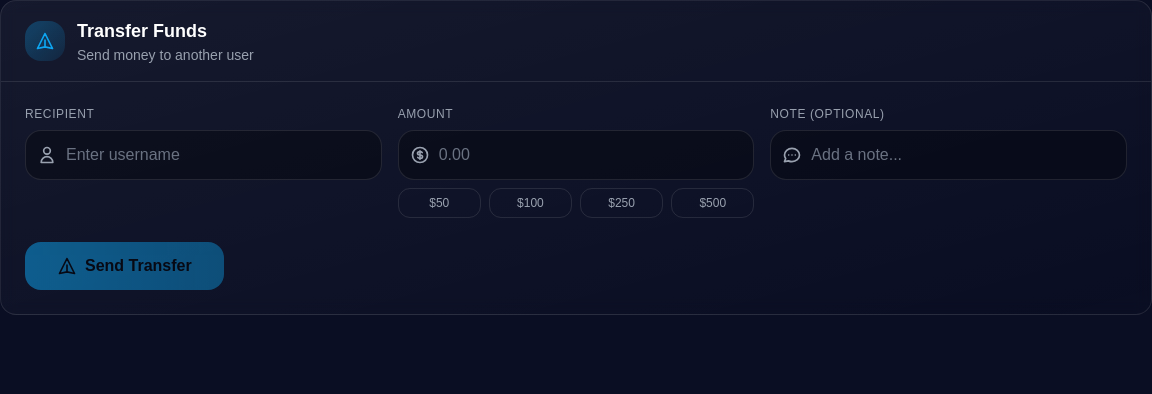
TransferFunds › shows error message after failed transfer
The width and height of the screenshot is (1152, 394).
Type "alice" into the field with placeholder "Enter username" at (203, 155), box [25,130,382,180]
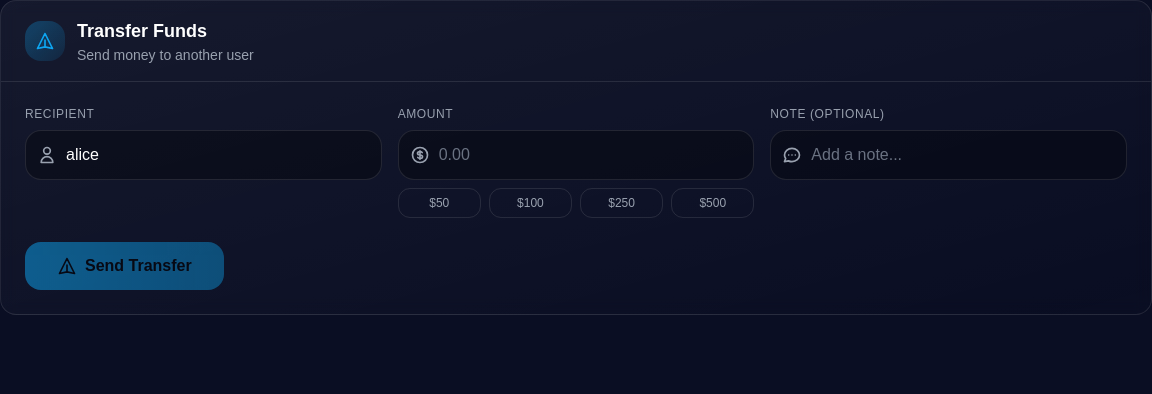
Type "100" into the number field with placeholder "0.00" at (576, 155), box [398,130,754,180]
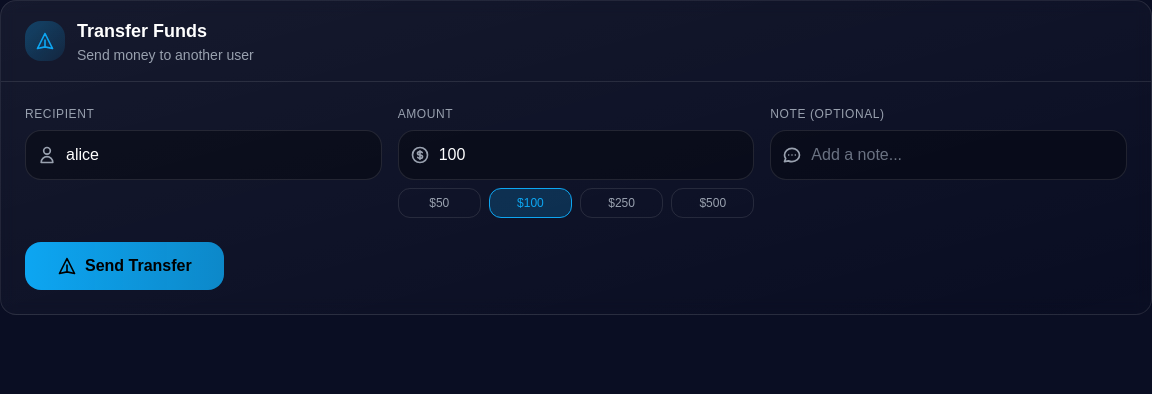
Click the button "Send Transfer" at (124, 266), box [25,242,224,290]
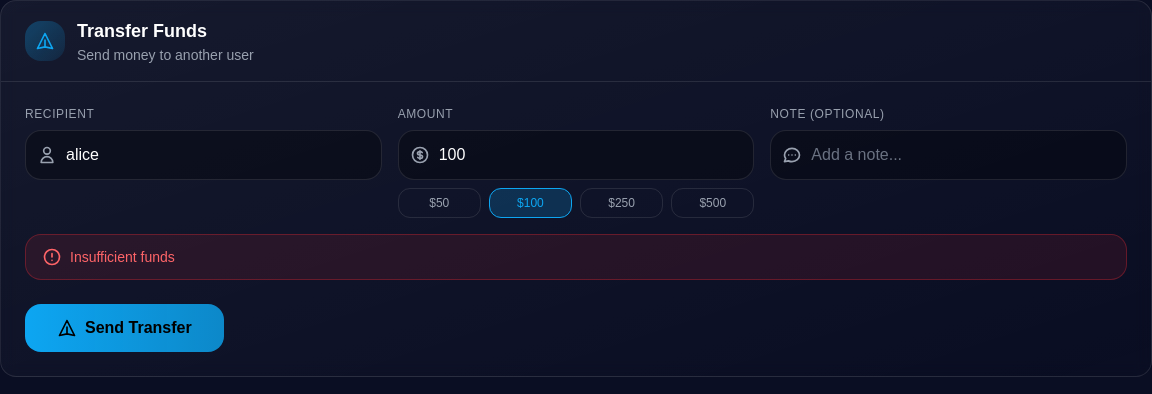
Now the text "Insufficient funds" is shown, box [70,247,175,267]
